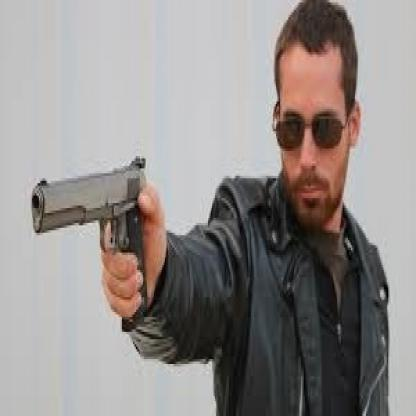Pistol: (28, 149, 156, 344)
